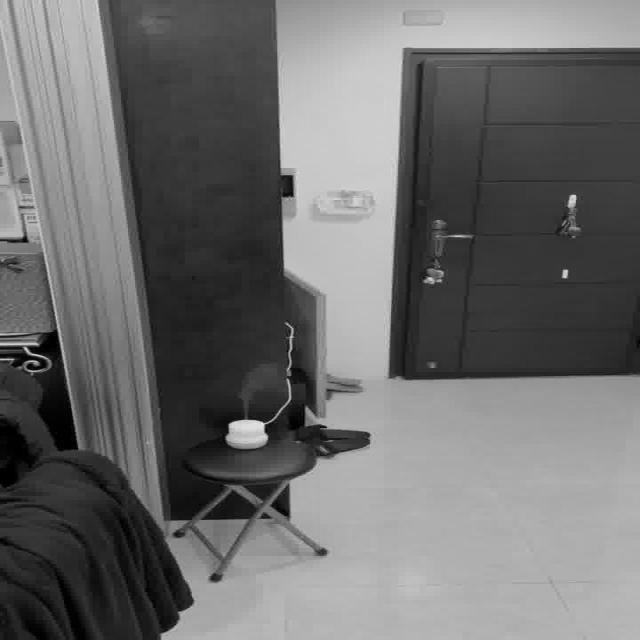fire: (233, 366, 280, 408)
